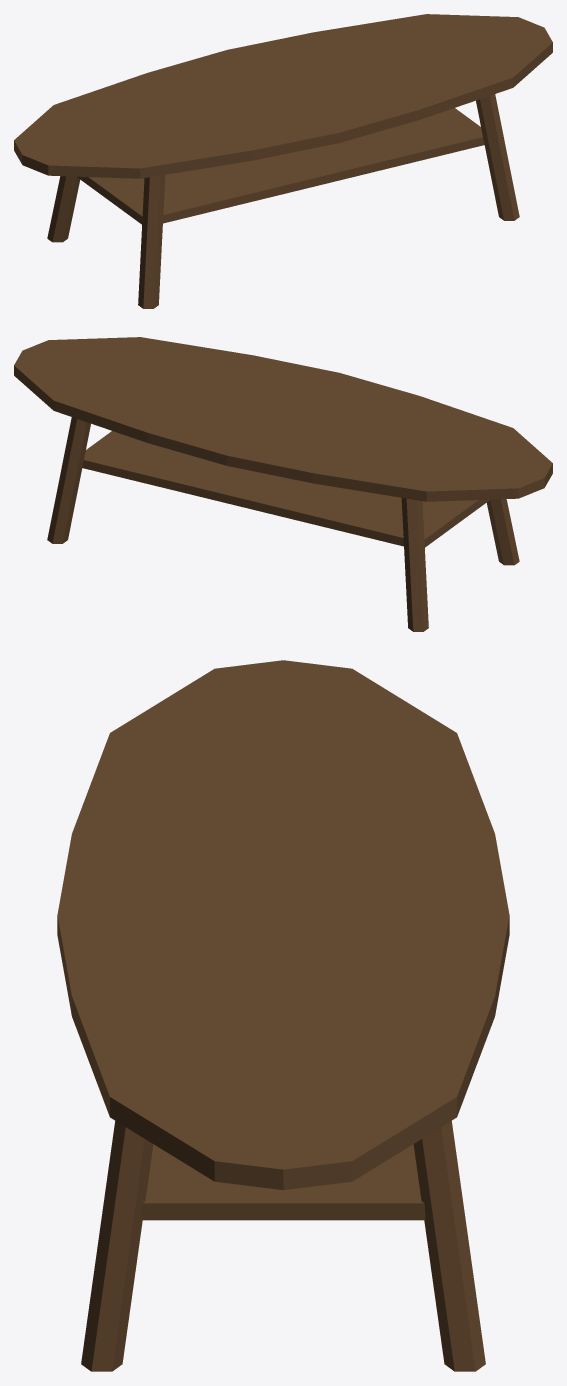
The model's file is furniture-table-coffe-oval.glb.
3 renders of one model, top to bottom at view 1: azimuth 30°, elevation 25°; view 2: azimuth 150°, elevation 25°; view 3: azimuth 270°, elevation 25°, orthographic. The views are drawn at different scales.
Parts seen in each view (by area): view 1: table-coffe-oval; view 2: table-coffe-oval; view 3: table-coffe-oval.
Boxes of the visible parts, bbox=[...] form: table-coffe-oval: bbox=[14, 14, 552, 308]; table-coffe-oval: bbox=[14, 337, 552, 631]; table-coffe-oval: bbox=[57, 660, 509, 1371].
Bounding box in the file's own units: 1.6 × 0.4 × 0.6.
